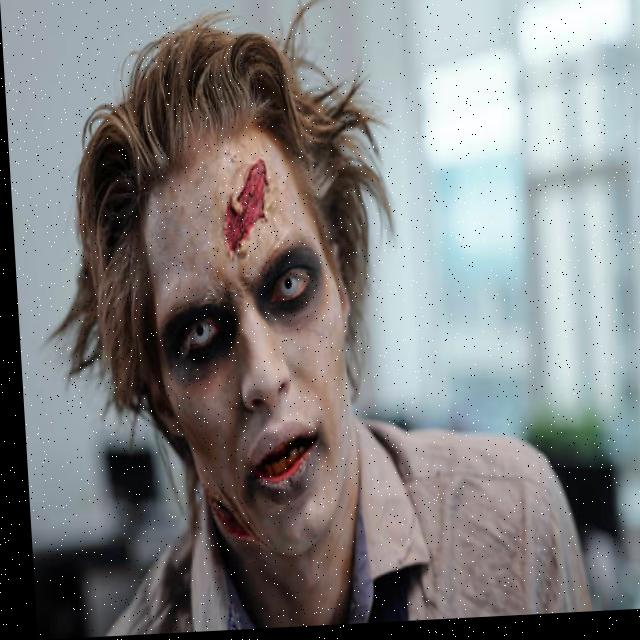Zombie: (106, 34, 361, 592)
